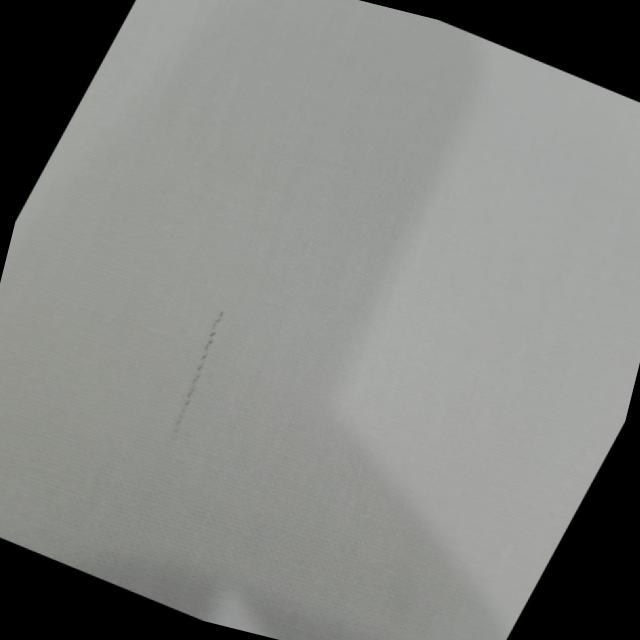contamination: (139, 284, 265, 457)
